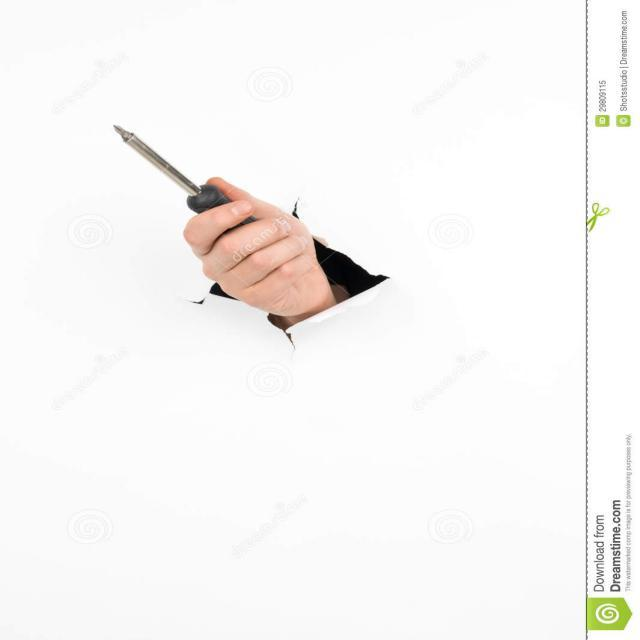screwdriver: (108, 121, 250, 230)
